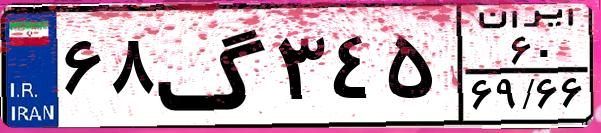0: (537, 27, 568, 80)
3: (270, 28, 330, 110)
4: (330, 28, 385, 110)
5: (385, 28, 445, 110)
6: (57, 26, 110, 100), (560, 70, 590, 125), (508, 27, 537, 80), (470, 70, 495, 125), (535, 70, 560, 125)
8: (110, 28, 156, 98)
9: (495, 70, 520, 125)
گ: (156, 12, 270, 120)
